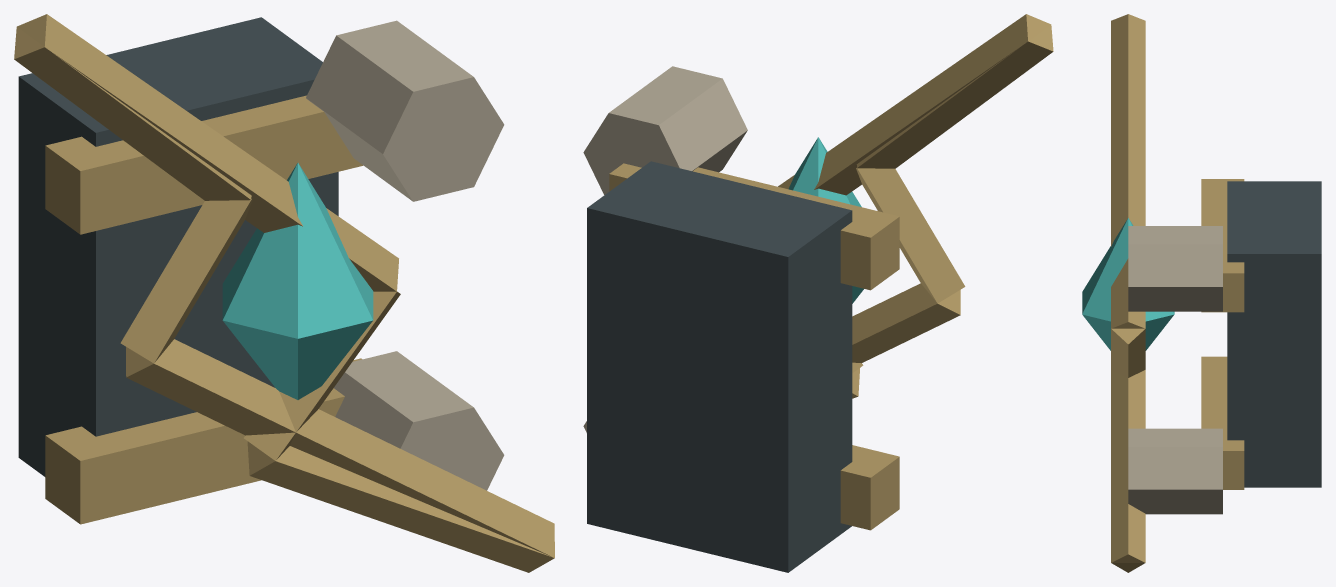
Rendered from Arsenal_RainCircuitSeal.fbx.
The picture shows the model from 3 angles, left to right: view 1: azimuth 30°, elevation 25°; view 2: azimuth 150°, elevation 25°; view 3: azimuth 270°, elevation 25°; orthographic projection. The views are drawn at different scales.
Visible parts, largest first — view 1: Arsenal_RainCircuitSeal; view 2: Arsenal_RainCircuitSeal; view 3: Arsenal_RainCircuitSeal.
Boxes of the visible parts, x1=… form: Arsenal_RainCircuitSeal: x1=14, y1=14, x2=554, y2=572; Arsenal_RainCircuitSeal: x1=583, y1=14, x2=1053, y2=572; Arsenal_RainCircuitSeal: x1=1082, y1=14, x2=1321, y2=572.
Size of the model in its own units: 0.2226 by 0.2662 by 0.1393.
